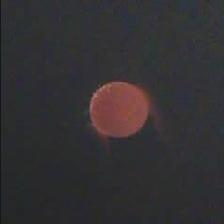infertile: (88, 80, 148, 138)
